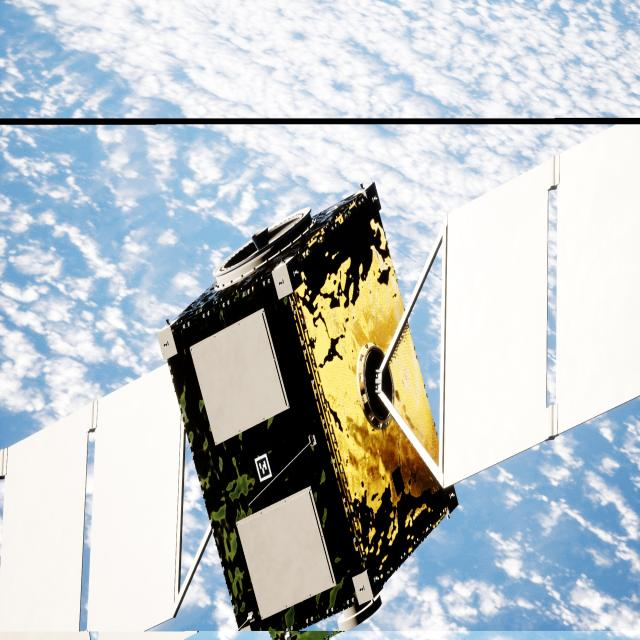satellite: (0, 126, 640, 638)
